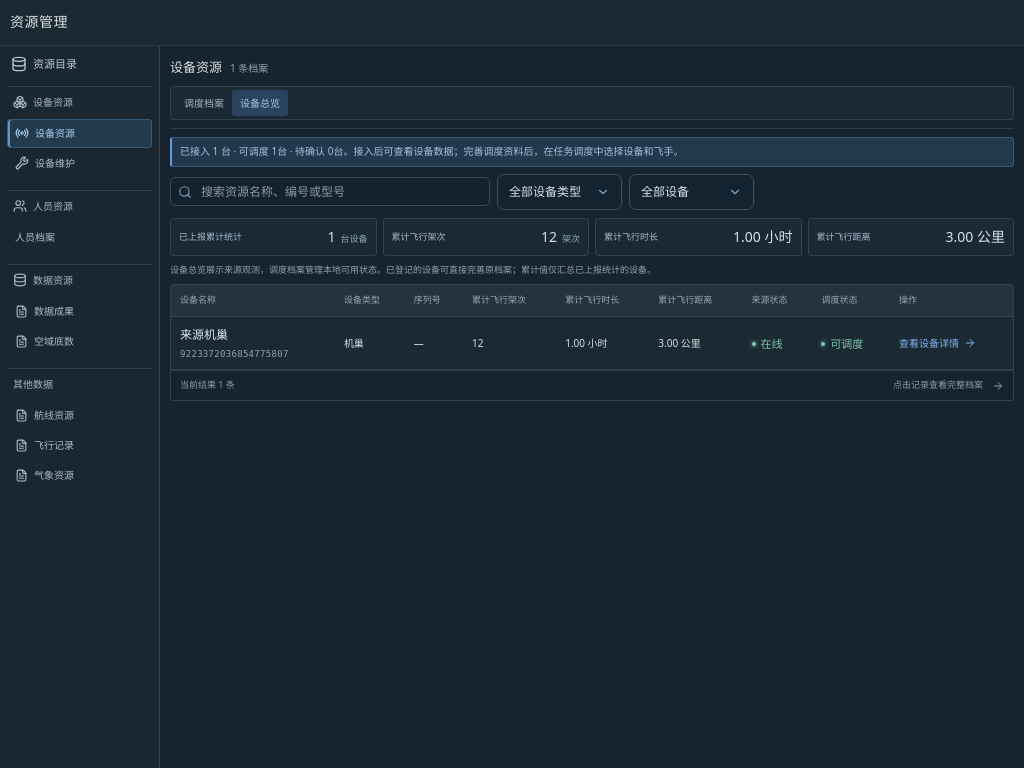
Scenario: 资源详情的来源设备身份 › 本地绑定使用来源设备编号与统计，不把本地对象伪装成来源设备
The width and height of the screenshot is (1024, 768).
Click the button "调度档案": click(204, 103) 176,90 -> 232,116
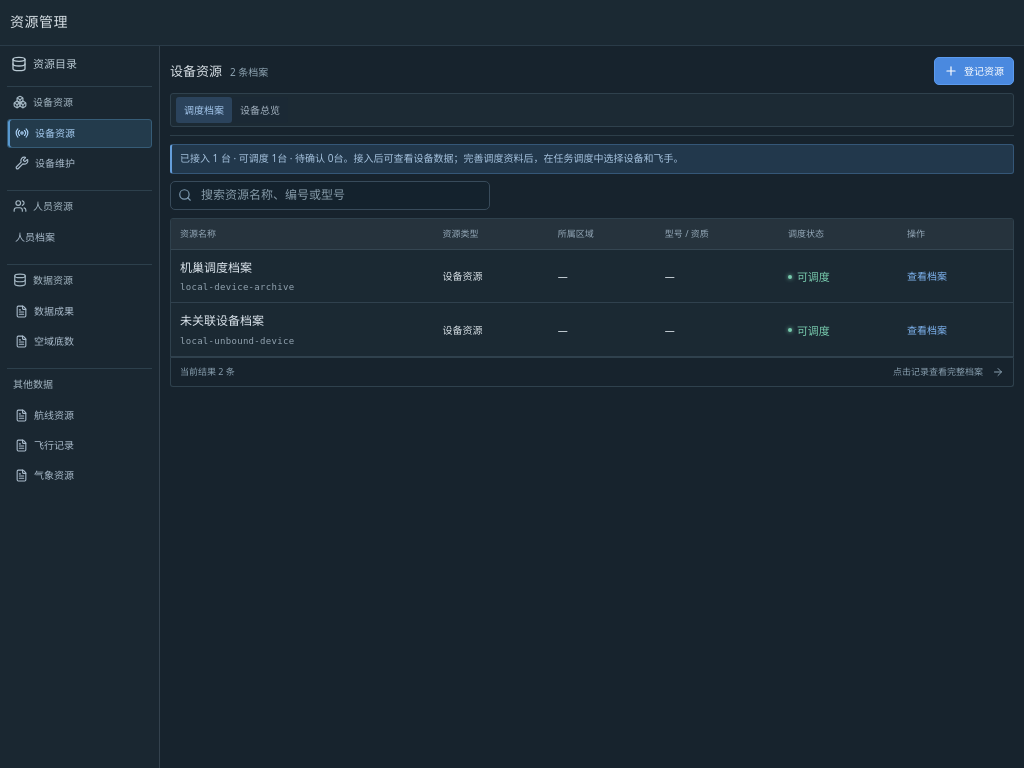
Click the text "机巢调度档案": click(216, 267) 180,259 -> 252,276
(page scrolled)
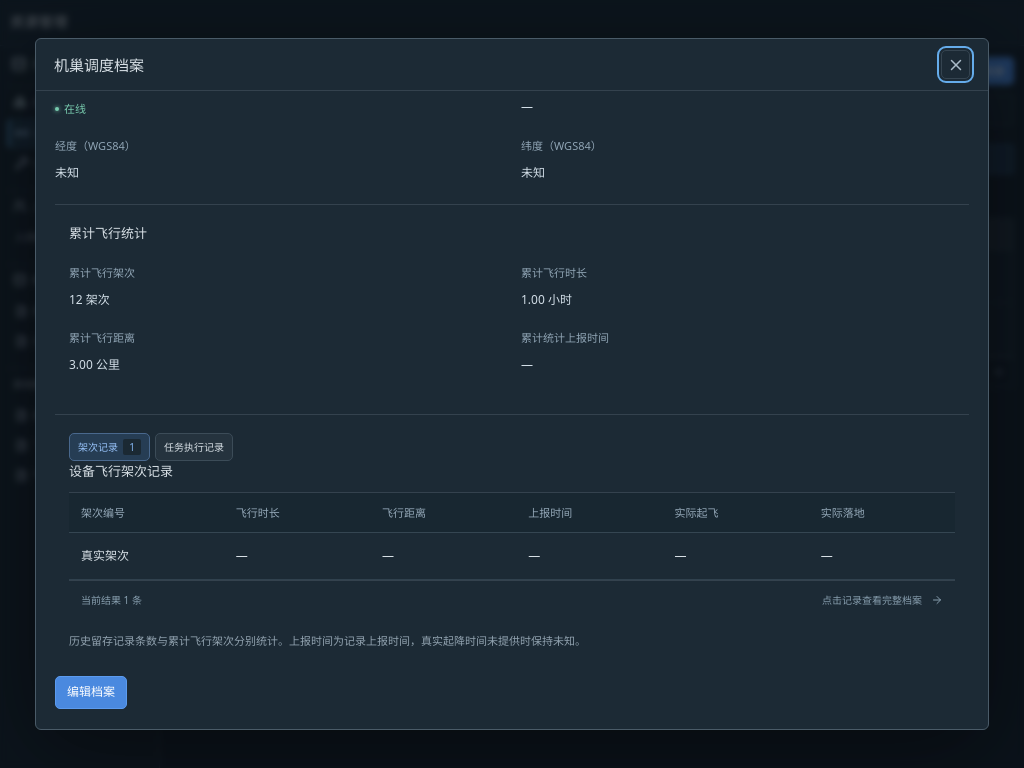
Result: the text "12 架次" is shown at 69,291 -> 110,308
Result: the text "真实架次" is shown at 69,533 -> 224,579
Click the tab "任务执行记录": click(194, 447) 155,433 -> 233,461
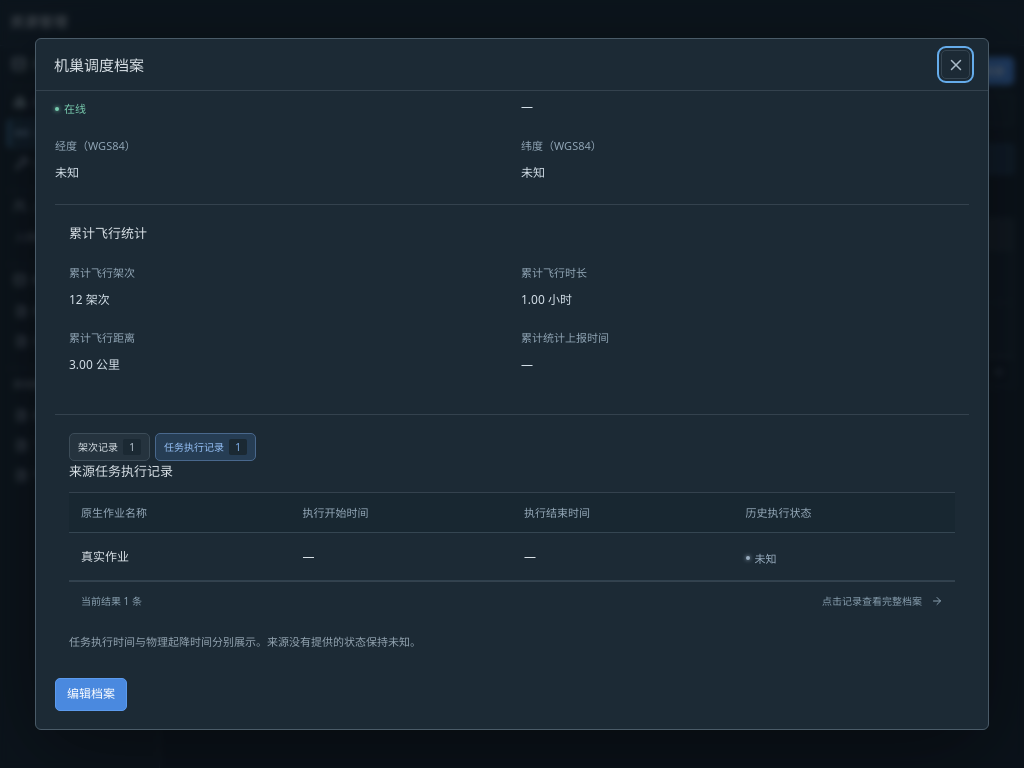
Result: the text "真实作业" is shown at 69,533 -> 290,581
